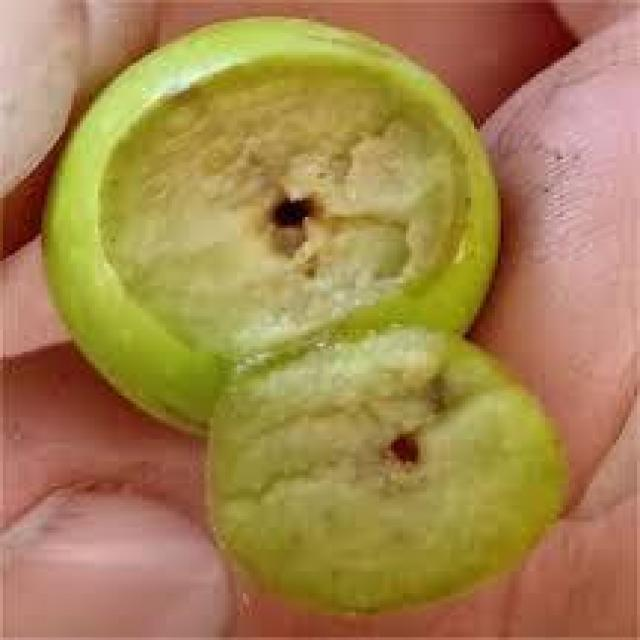Olive Fruit Fly: (47, 19, 563, 604)
